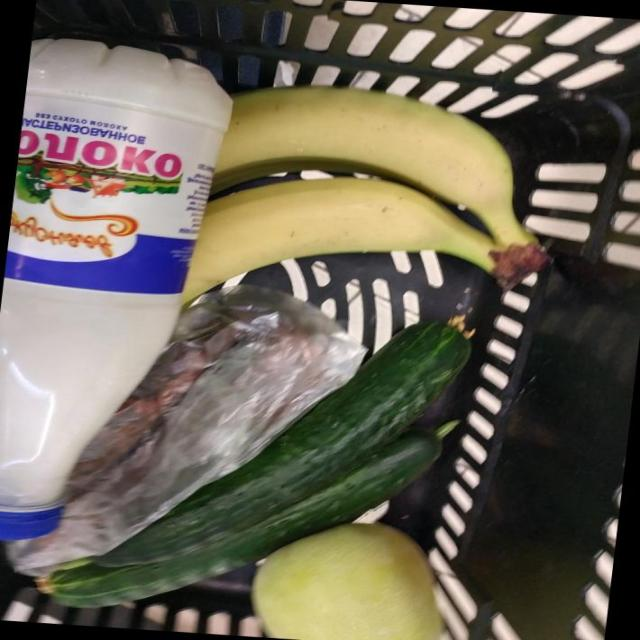Apple: (251, 523, 443, 640)
Banana: (215, 86, 533, 249), (180, 177, 547, 304)
Carrot: (77, 329, 233, 474)
Cucumber: (94, 323, 471, 568), (47, 432, 441, 608)
Milk: (0, 39, 231, 540)
